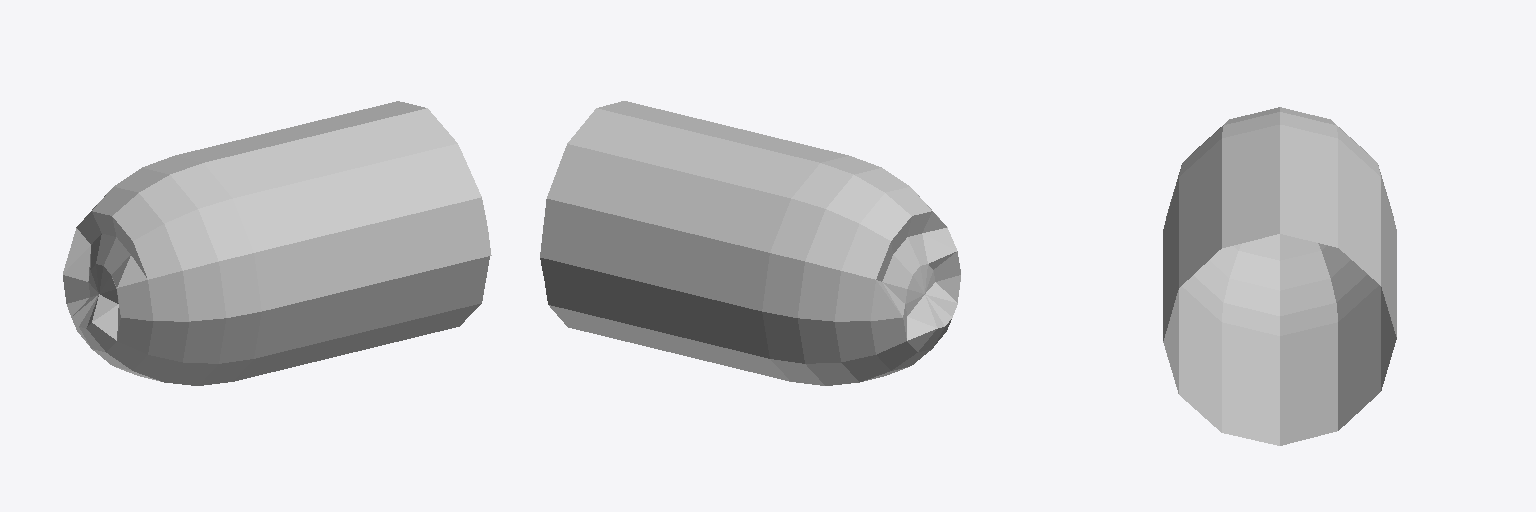
The model's file is righthand.obj.
3 renders of one model, left to right at view 1: azimuth 30°, elevation 25°; view 2: azimuth 150°, elevation 25°; view 3: azimuth 270°, elevation 25°, orthographic.
Visible parts, largest first — view 1: polySurface13 polySurface11 AndroidRobot:Mesh; view 2: polySurface13 polySurface11 AndroidRobot:Mesh; view 3: polySurface13 polySurface11 AndroidRobot:Mesh.
Boxes of the visible parts, box(x1,y1,x2,y2) form: polySurface13 polySurface11 AndroidRobot:Mesh: box(63, 101, 491, 385); polySurface13 polySurface11 AndroidRobot:Mesh: box(540, 101, 960, 385); polySurface13 polySurface11 AndroidRobot:Mesh: box(1163, 107, 1396, 445).
Bounding box in the file's own units: 1.1 × 0.6294 × 0.6294.